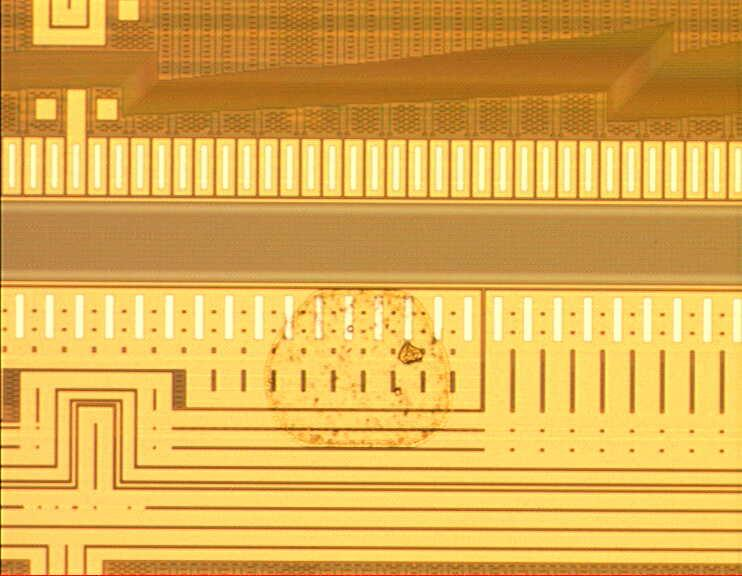PO CONTAMINATION: (265, 287, 460, 451)
